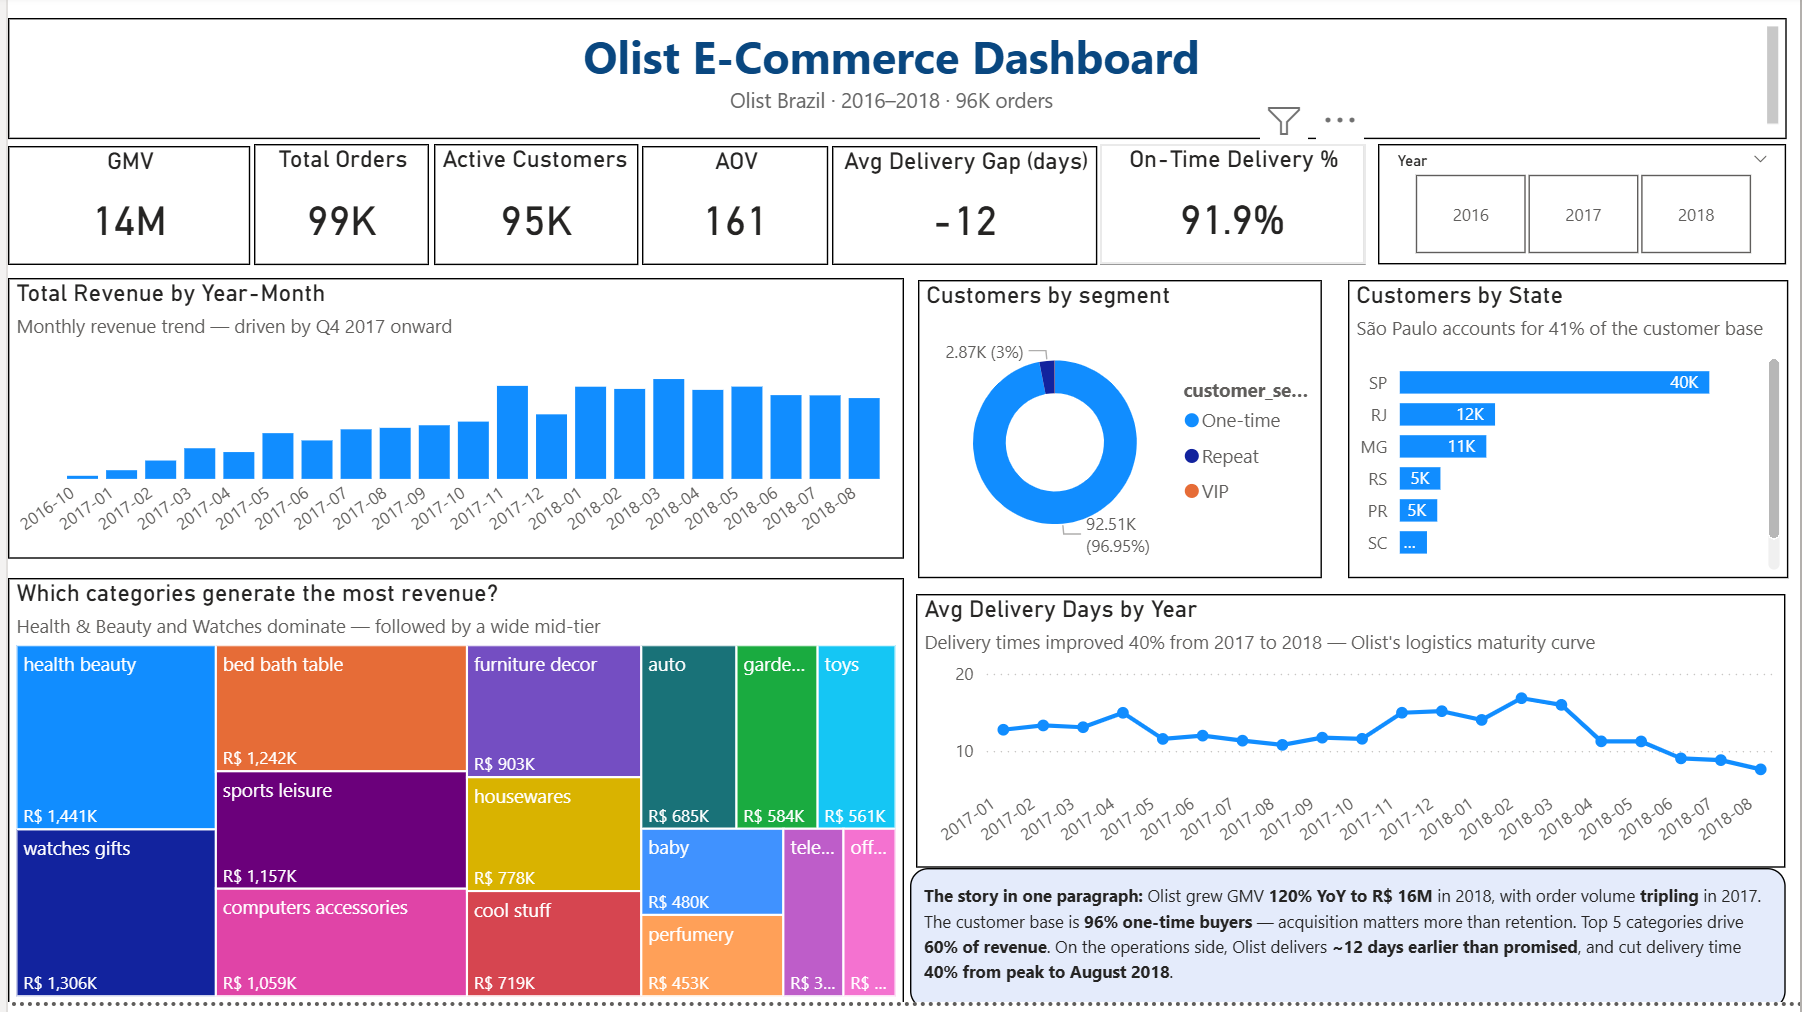

Layout of this report page (visuals, bound fields, positions):
{"tool":"powerbi","page":{"name":"Dashboard","canvas":[1280,720],"ordinal":4},"visuals":[{"type":"card","title":"Total Orders","fields":{"Values":["orders_enriched.Total Orders"]},"box":[176,107.5,125.1,86.6],"z":0},{"type":"card","title":"Active Customers","fields":{"Values":["orders_enriched.Total Customers"]},"box":[303.8,107.5,146,86.6],"z":1000},{"type":"columnChart","title":"Total Revenue by Year-Month ","fields":{"Category":["DateTable.Year-Month"],"Y":["orders_enriched.Total Revenue"]},"box":[0,203.6,640,200.5],"z":2000},{"type":"slicer","fields":{"Values":["DateTable.Year"]},"box":[979.2,107.3,291.5,86.1],"z":3000},{"type":"textbox","box":[0,17,1270.7,86.4],"z":4000},{"type":"cardVisual","title":"GMV","fields":{"Data":["orders_enriched.GMV"]},"box":[0,109.1,173.2,85],"z":5000},{"type":"cardVisual","title":"On-Time Delivery %","fields":{"Data":["orders_enriched.On-Time Delivery %"]},"box":[780.5,107.3,189.5,86.1],"z":6000},{"type":"lineChart","title":"Avg Delivery Days by Year","fields":{"Y":["orders_enriched.Avg Delivery Days"],"Category":["DateTable.Year-Month"]},"box":[648,428.3,620.8,195.7],"z":7000},{"type":"donutChart","title":"Customers by segment","fields":{"Category":["customer_segments.customer_segment"],"Y":["CountNonNull(customer_segments.customer_unique_id)"]},"box":[650,204.3,288.6,212.9],"z":8000},{"type":"clusteredBarChart","title":"Customers by State","fields":{"Y":["CountNonNull(customer_segments.customer_unique_id)"],"Category":["customer_segments.customer_state"]},"box":[957.1,204.3,314.3,212.9],"z":9000},{"type":"cardVisual","title":"AOV","fields":{"Data":["orders_enriched.Avg Order Value"]},"box":[452.6,109.1,133.1,85],"z":10000},{"type":"treemap","title":"Which categories generate the most revenue?","fields":{"Group":["product_category_analysis.product_category_name_english"],"Values":["Sum(product_category_analysis.total_revenue)"]},"box":[0,417,640,304.8],"z":11000},{"type":"cardVisual","title":"Avg Delivery Gap (days)","fields":{"Data":["orders_enriched.Avg Delivery Promise Gap"]},"box":[588.7,109.1,189.3,85],"z":12000},{"type":"textbox","box":[644.8,624,625.6,101.1],"z":13000}]}

Visuals, with their boxes in screenshot pixels (x1, y1, x2, y2), scaled from the page's 1280x720 canvas onto the 1802x1012 screenshot:
"Total Orders" card: 248/151/424/273
"Active Customers" card: 428/151/633/273
"Total Revenue by Year-Month " columnChart: 0/286/901/568
slicer - DateTable.Year: 1379/151/1789/272
textbox: 0/24/1789/145
"GMV" cardVisual: 0/153/244/273
"On-Time Delivery %" cardVisual: 1099/151/1366/272
"Avg Delivery Days by Year" lineChart: 912/602/1786/877
"Customers by segment" donutChart: 915/287/1321/586
"Customers by State" clusteredBarChart: 1347/287/1790/586
"AOV" cardVisual: 637/153/825/273
"Which categories generate the most revenue?" treemap: 0/586/901/1011
"Avg Delivery Gap (days)" cardVisual: 829/153/1095/273
textbox: 908/877/1788/1011
